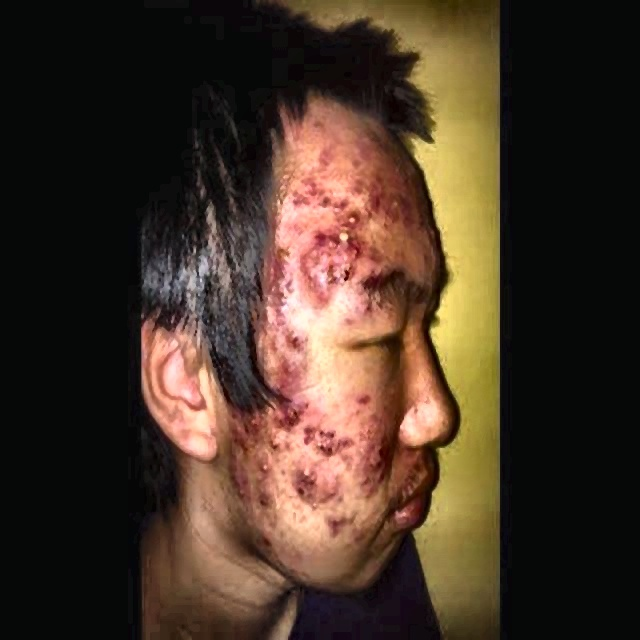nodule: (308, 256, 341, 306), (257, 478, 287, 521), (270, 353, 306, 388), (318, 421, 346, 459), (278, 398, 310, 430), (309, 220, 336, 256), (291, 457, 324, 485), (349, 139, 382, 165), (326, 249, 350, 284), (361, 172, 380, 214), (283, 542, 305, 578), (401, 199, 423, 233), (356, 409, 383, 435), (260, 426, 287, 452), (324, 501, 343, 537), (256, 444, 275, 480), (280, 192, 311, 213), (297, 485, 319, 514), (356, 469, 377, 496), (349, 297, 376, 318), (269, 281, 291, 306), (232, 484, 257, 506), (281, 160, 303, 185), (275, 236, 293, 266), (352, 384, 375, 407), (244, 406, 268, 428), (310, 139, 334, 160), (339, 446, 356, 475), (341, 206, 363, 228), (311, 190, 332, 213), (390, 190, 406, 220), (318, 474, 338, 498), (306, 112, 326, 135), (328, 194, 347, 218), (259, 521, 273, 553), (234, 459, 250, 487), (281, 325, 303, 345), (227, 409, 244, 434), (264, 332, 283, 354), (343, 260, 360, 284), (338, 308, 358, 327), (300, 422, 317, 444), (348, 521, 365, 542), (364, 244, 380, 266), (296, 174, 315, 192), (287, 117, 304, 137), (371, 444, 385, 468), (222, 462, 238, 482), (387, 155, 401, 176), (339, 228, 356, 245), (226, 450, 242, 466), (290, 340, 310, 352), (300, 254, 312, 274)
